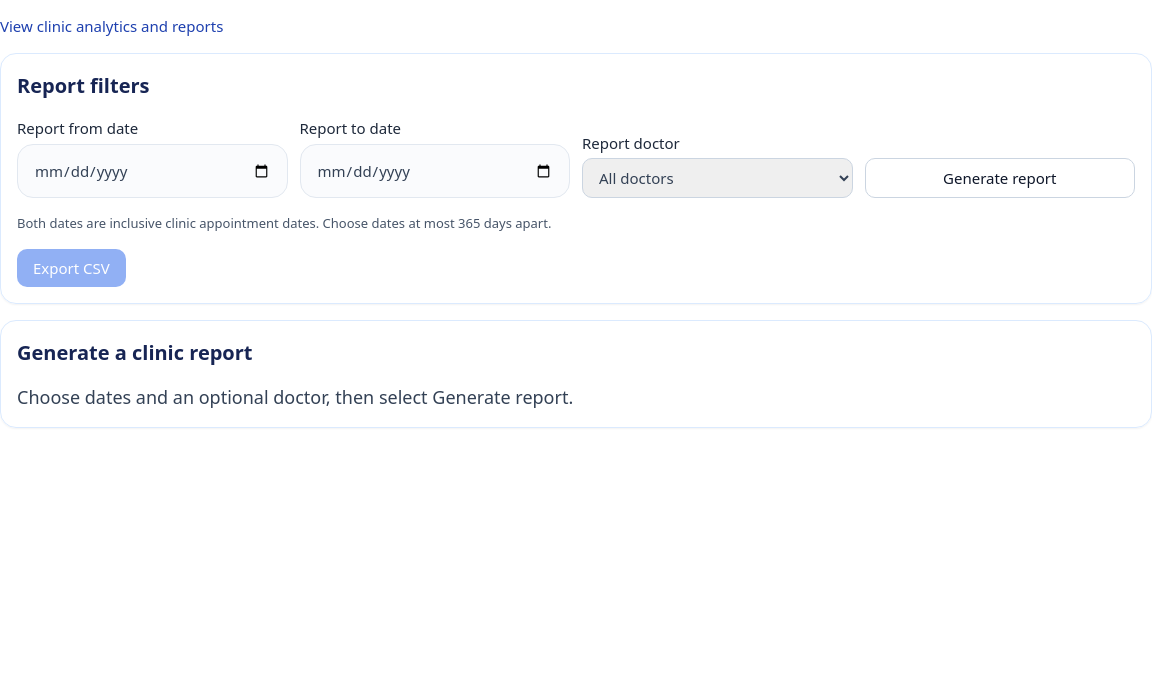
it: ADM-08 real client with mocked API (MSW) › AC1 maps real aggregate fields, charts and doctor/date queries
Expected: the button "Export CSV" is disabled, [17,249,126,287]
Select "Example Doctor" in the dropdown labelled "Report doctor" at (717, 178), box [582,158,852,198]
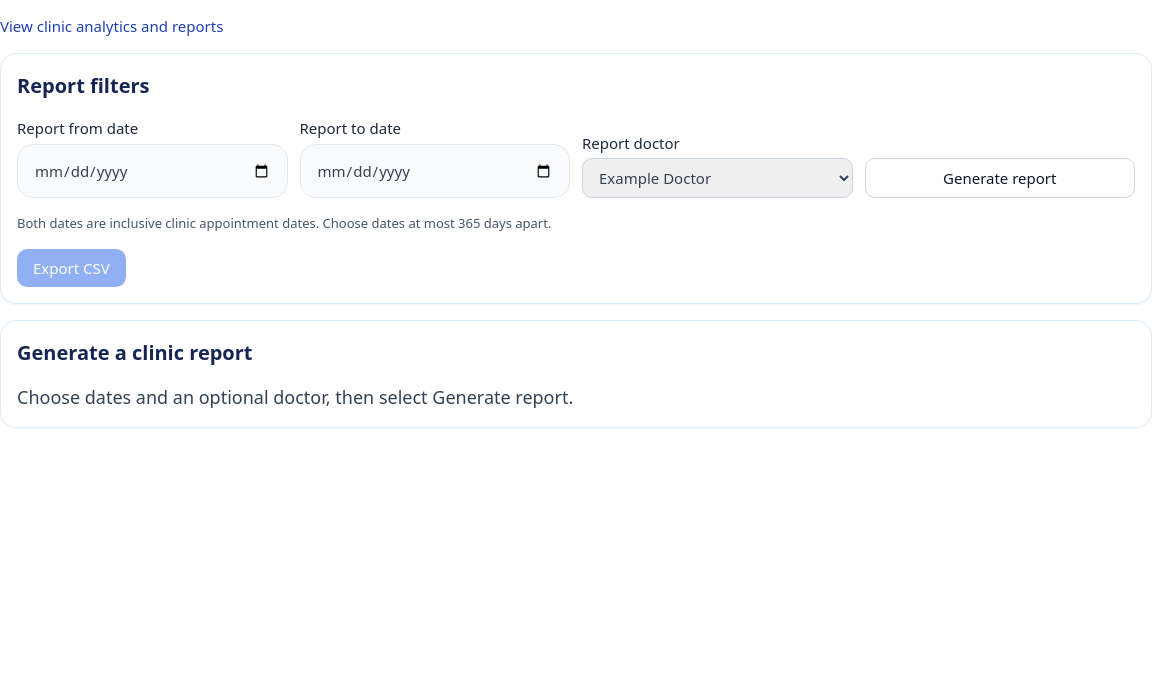
Type "2026-10-01" into the date field labelled "Report from date" at (152, 171), box [17,144,288,198]
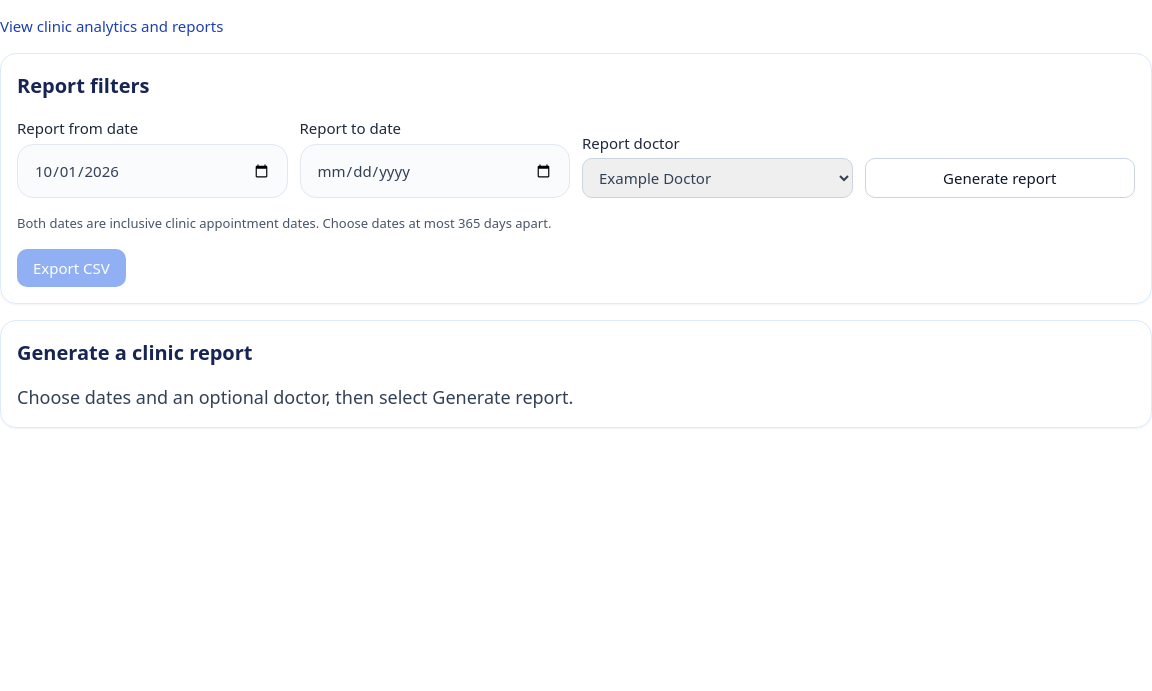
Type "2026-10-24" into the date field labelled "Report to date" at (435, 171), box [300,144,570,198]
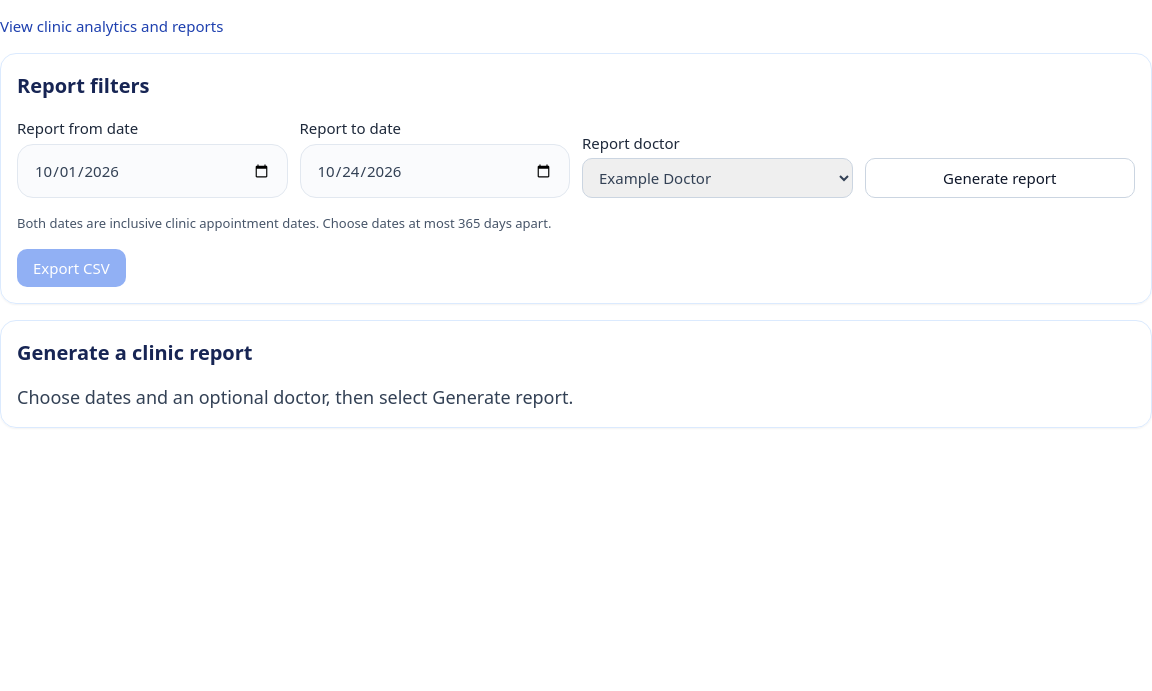
Click the button "Generate report" at (1000, 178), box [864,158,1135,198]
(page scrolled)
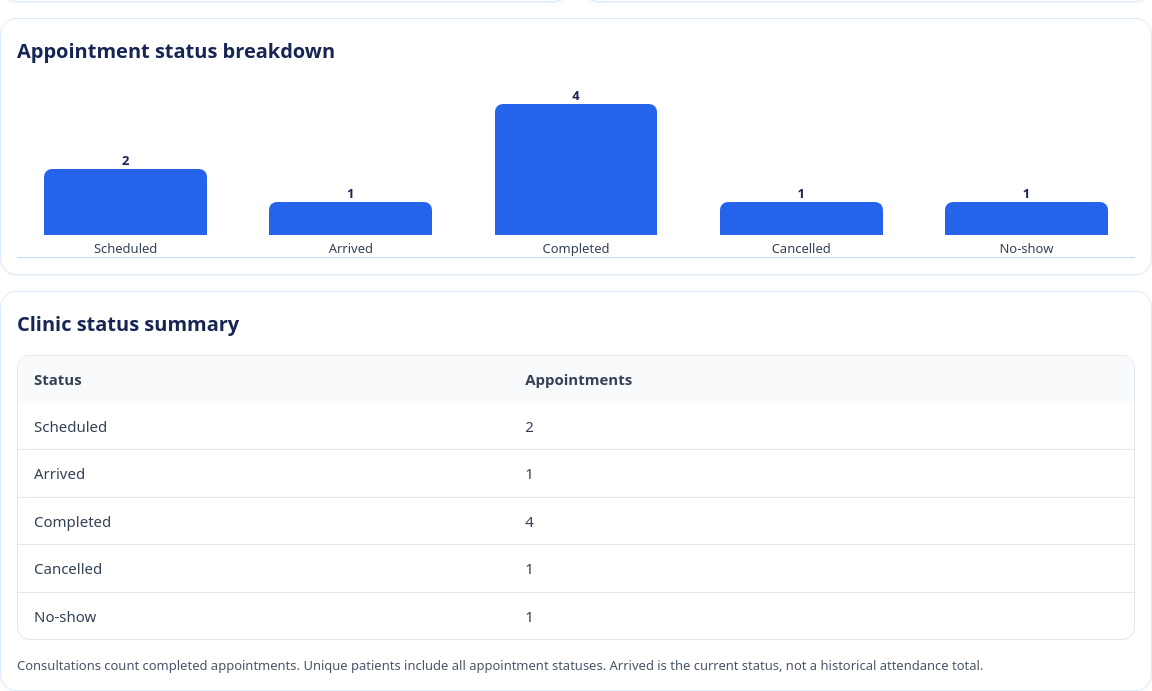
Result: the row "No-show 1" is shown at [18,592,1134,639]
